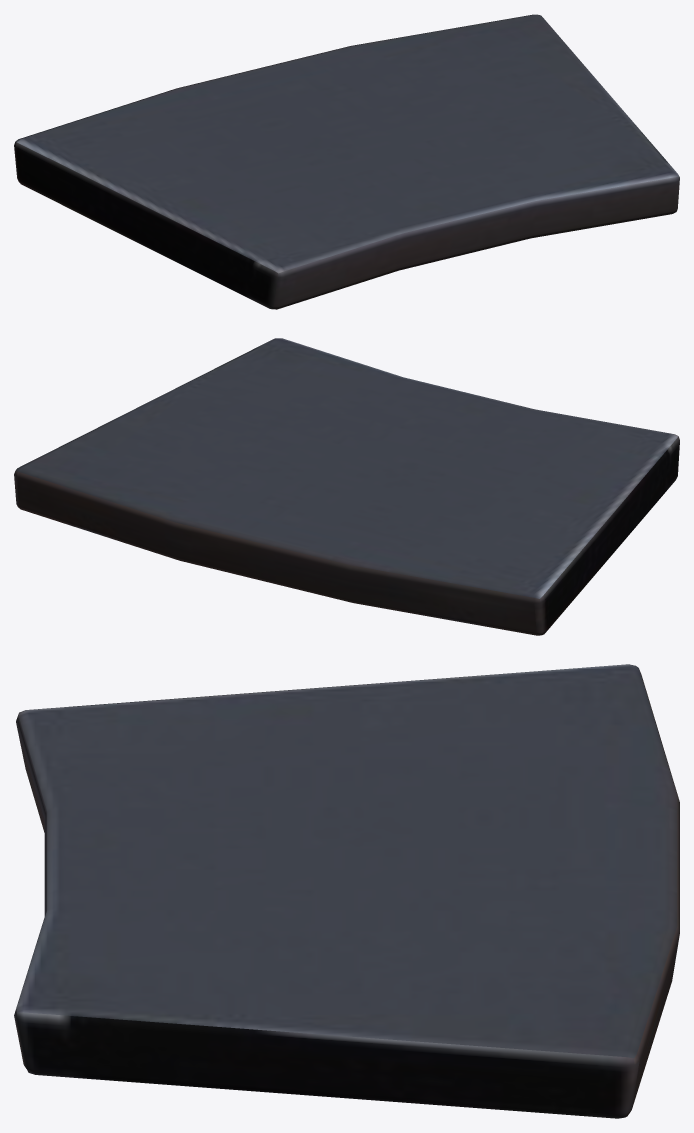
Rendered from bardoor4.obj.
3 renders of one model, top to bottom at view 1: azimuth 30°, elevation 25°; view 2: azimuth 150°, elevation 25°; view 3: azimuth 270°, elevation 25°, orthographic. The views are drawn at different scales.
Visible parts, largest first — view 1: BardoorBaked; view 2: BardoorBaked; view 3: BardoorBaked.
Part boxes in pixels (x1,y1,x2,y2): BardoorBaked: [14, 14, 679, 309]; BardoorBaked: [14, 338, 679, 635]; BardoorBaked: [14, 664, 679, 1118].
Size of the model in its own units: 1.17 by 0.0931 by 0.8321.
1 material, 1 textured.
